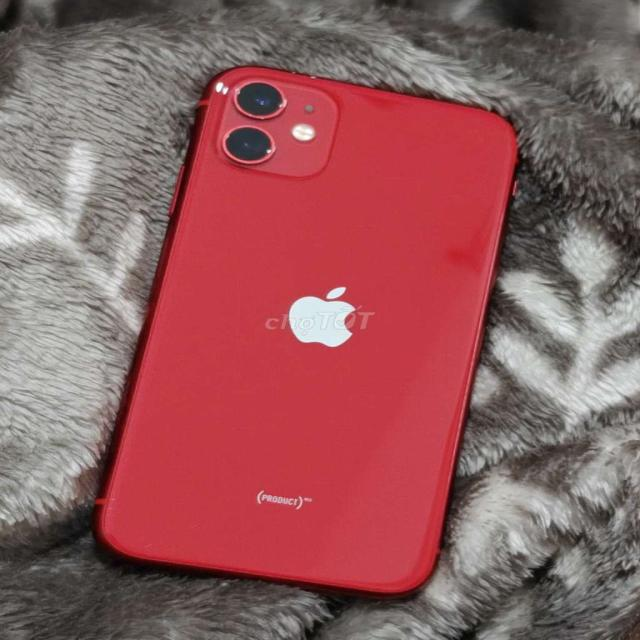gen_11: (83, 56, 526, 600)
